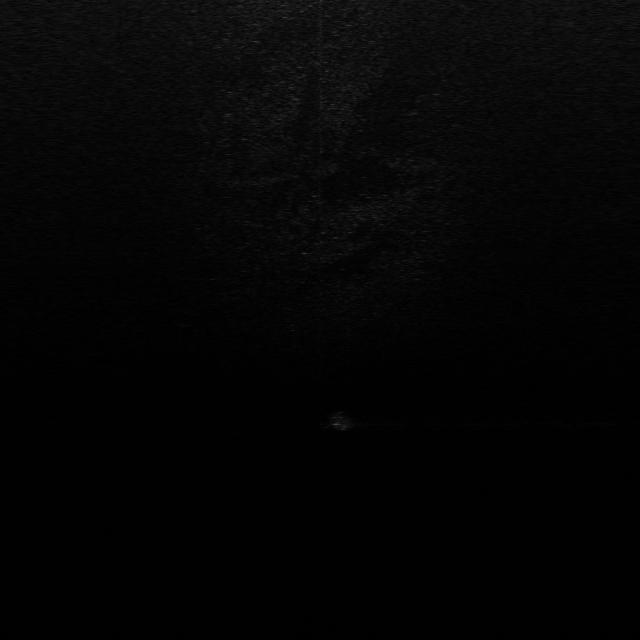circle cage: (324, 408, 364, 435)
